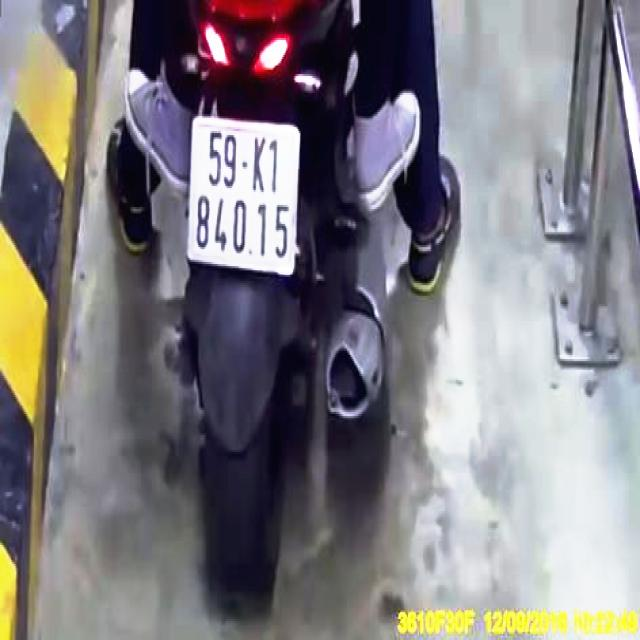license_plate: (187, 114, 301, 277)
